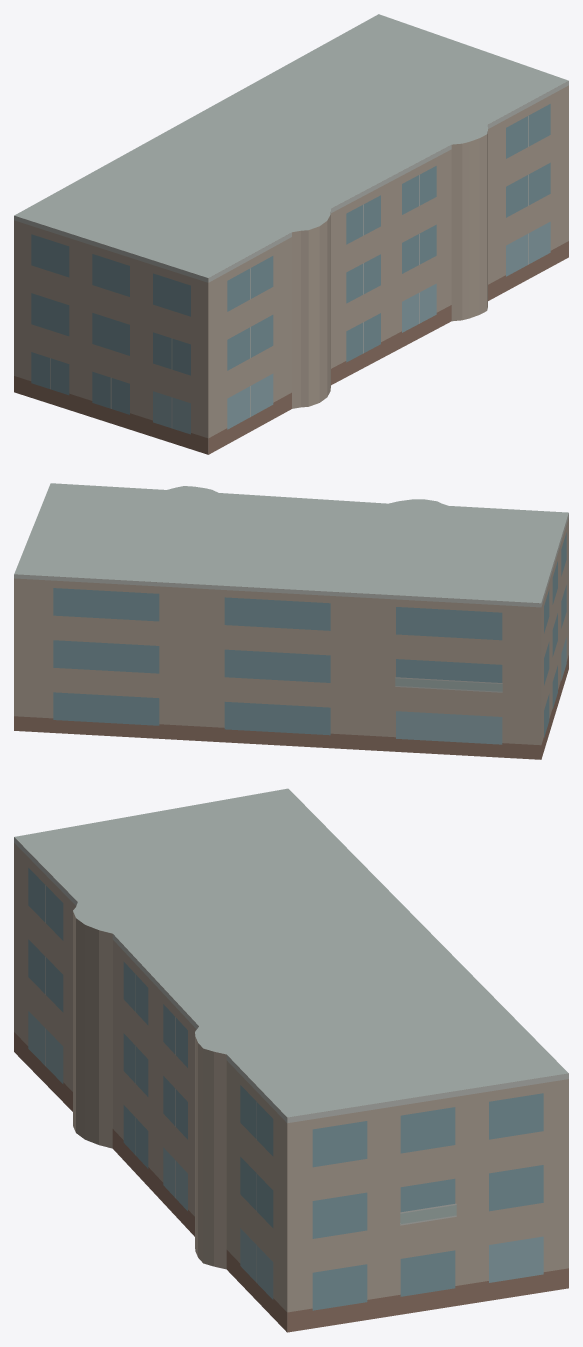
File: survey-upis-32612838.glb
3 views of the same model, one above another, from view 1: azimuth 30°, elevation 25°; view 2: azimuth 150°, elevation 25°; view 3: azimuth 270°, elevation 25° (orthographic). The views are drawn at different scales.
Visible parts, largest first — view 1: survey-upis-32612838.tmp; view 2: survey-upis-32612838.tmp; view 3: survey-upis-32612838.tmp.
Boxes of the visible parts, bbox=[...] form: survey-upis-32612838.tmp: bbox=[14, 14, 568, 454]; survey-upis-32612838.tmp: bbox=[14, 483, 568, 759]; survey-upis-32612838.tmp: bbox=[14, 788, 568, 1332].
Size of the model in its own units: 30.05 by 9.15 by 21.41.
